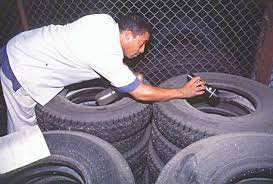tire: (152, 75, 273, 147), (31, 70, 156, 135), (1, 128, 137, 184)
